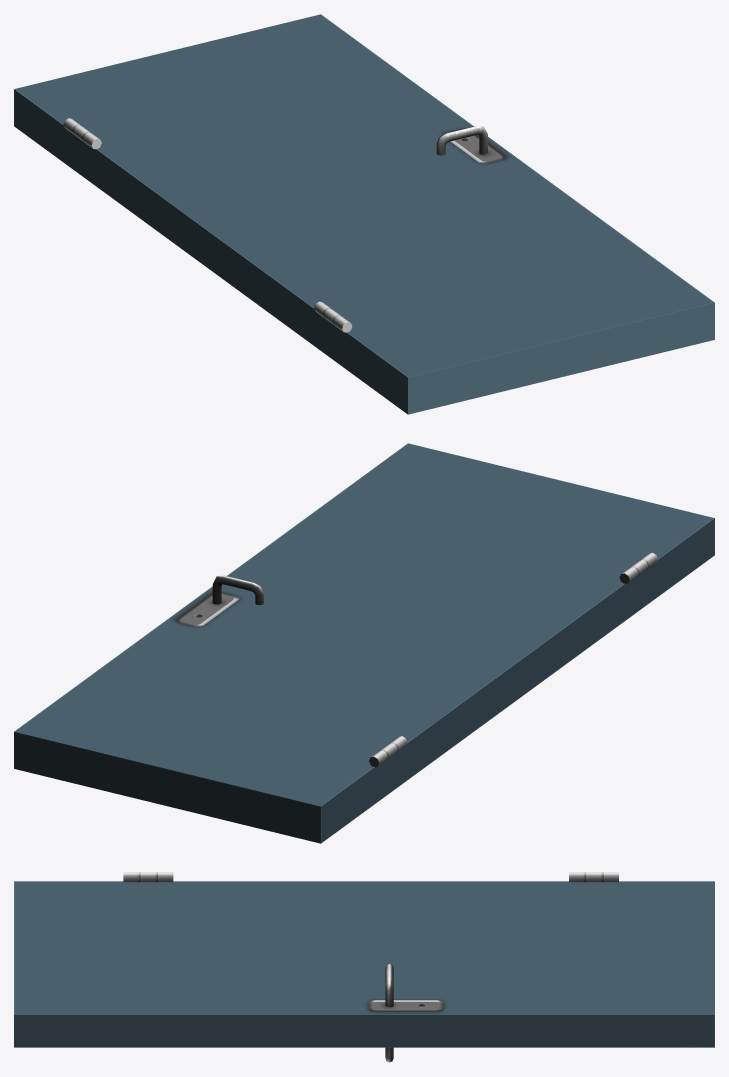
The model's file is door_door.obj.
3 views of the same model, one above another, from view 1: azimuth 30°, elevation 25°; view 2: azimuth 150°, elevation 25°; view 3: azimuth 270°, elevation 25° (orthographic). The views are drawn at different scales.
Parts seen in each view (by area): view 1: Door, Object002, Door_Handle; view 2: Door, Object002, Door_Handle; view 3: Door, Object002, Door_Handle.
Part boxes in pixels (x1,y1,x2,y2): Door: (14,14,714,414); Object002: (63,118,352,332); Door_Handle: (436,126,487,155); Door: (14,443,714,843); Object002: (369,552,657,767); Door_Handle: (212,575,263,605); Door: (14,881,714,1047); Object002: (123,872,618,882); Door_Handle: (385,963,393,1062).
Bounding box in the file's own units: 92.72 × 26.85 × 203.
1 material, 1 textured.
